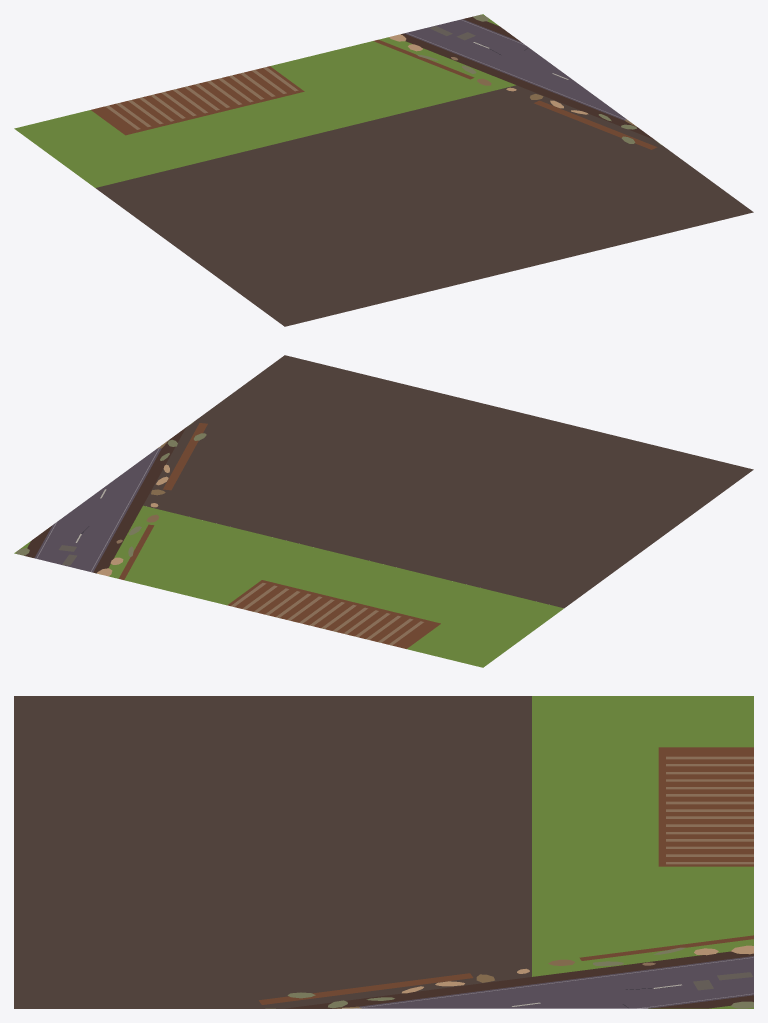
Rendered from crossing-9-2.glb.
The picture shows the model from 3 angles, top to bottom: view 1: azimuth 30°, elevation 25°; view 2: azimuth 150°, elevation 25°; view 3: azimuth 270°, elevation 25°; orthographic projection. The views are drawn at different scales.
Parts seen in each view (by area): view 1: crossing-9-2; view 2: crossing-9-2; view 3: crossing-9-2.
Part boxes in pixels (x1,y1,x2,y2): crossing-9-2: (14, 14, 753, 326); crossing-9-2: (14, 355, 753, 667); crossing-9-2: (14, 696, 753, 1008).
Bounding box in the file's own units: 100 × 0.0145 × 100.
